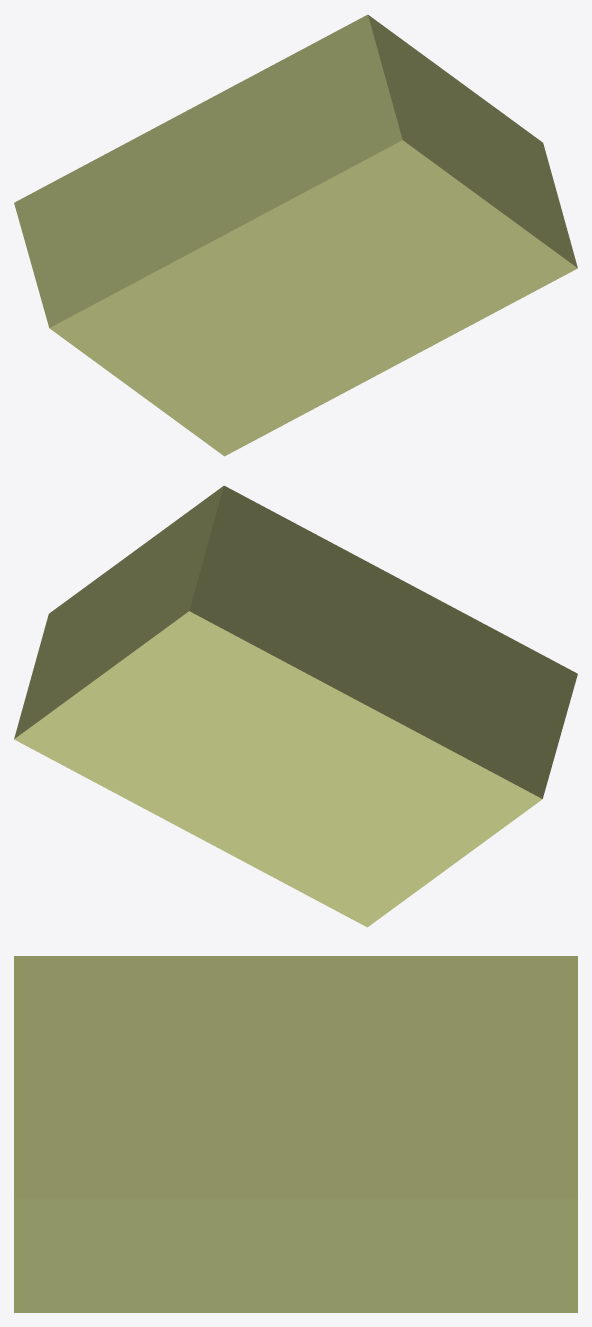
3 views of the same model, one above another, from view 1: azimuth 30°, elevation 25°; view 2: azimuth 150°, elevation 25°; view 3: azimuth 270°, elevation 25° (orthographic). The views are drawn at different scales.
Parts seen in each view (by area): view 1: 0_1_2_0_3_3_0_1_0_1; view 2: 0_1_2_0_3_3_0_1_0_1; view 3: 0_1_2_0_3_3_0_1_0_1.
Boxes of the visible parts, left/top/right/bottom form: 0_1_2_0_3_3_0_1_0_1: left=14, top=14, right=577, bottom=456; 0_1_2_0_3_3_0_1_0_1: left=14, top=485, right=577, bottom=927; 0_1_2_0_3_3_0_1_0_1: left=14, top=956, right=577, bottom=1312.
Size of the model in its own units: 11.52 by 6.69 by 9.
